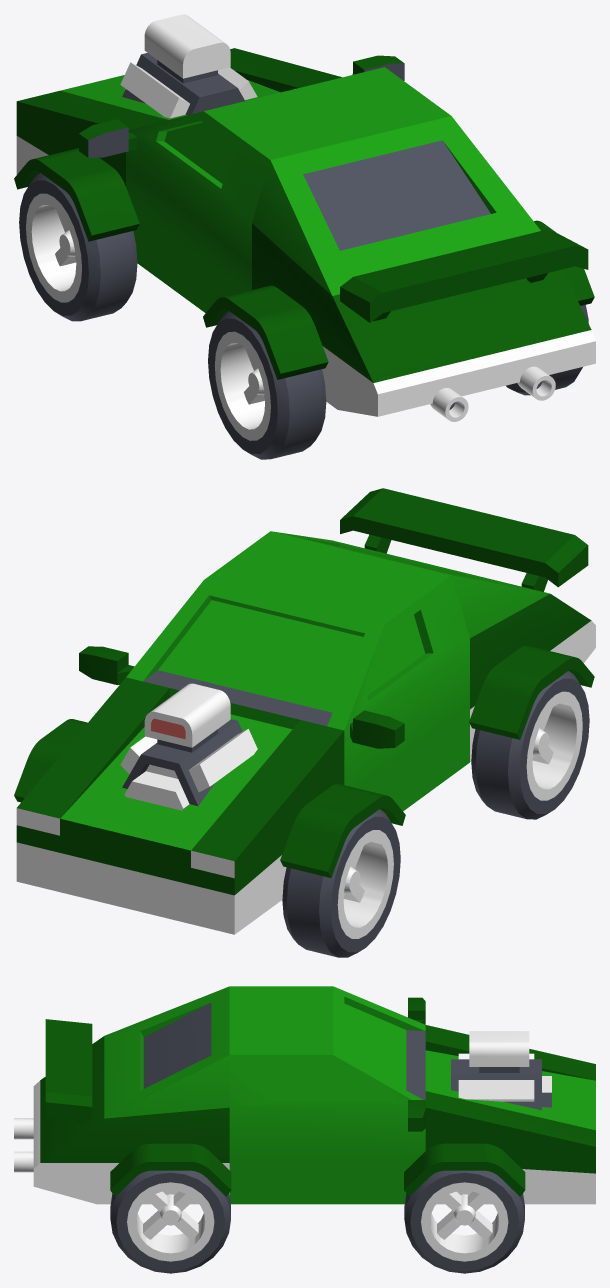
File: Traffic Race Green.fbx
The picture shows the model from 3 angles, top to bottom: view 1: azimuth 30°, elevation 25°; view 2: azimuth 150°, elevation 25°; view 3: azimuth 270°, elevation 25°; orthographic projection. The views are drawn at different scales.
Parts seen in each view (by area): view 1: trunk_smooth_126, windshield_default_121, wheel_smallSports_135, wheel_smallSports_134, detail_spoilerRound_130, hood_sleek_117, detail_engine_133, detail_fenderRounded_137, detail_fenderRounded_136, detail_mirror_131, detail_exhaust_142, detail_exhaust_143 (+3 smaller); view 2: windshield_default_121, hood_sleek_117, detail_spoilerRound_130, wheel_smallSports_134, wheel_smallSports_135, detail_engine_133, trunk_smooth_126, detail_fenderRounded_137, detail_fenderRounded_136, detail_fenderRounded_138, detail_mirror_131, detail_mirror_132; view 3: windshield_default_121, trunk_smooth_126, hood_sleek_117, wheel_smallSports_139, wheel_smallSports_140, detail_engine_133, detail_spoilerRound_130, detail_fenderRounded_138, detail_fenderRounded_141, detail_mirror_132, detail_exhaust_142, detail_exhaust_143 (+1 smaller).
Part boxes in pixels (<box>): trunk_smooth_126: <box>252,116,595,416</box>; windshield_default_121: <box>126,67,450,313</box>; wheel_smallSports_135: <box>208,311,326,459</box>; wheel_smallSports_134: <box>19,172,137,321</box>; detail_spoilerRound_130: <box>340,230,588,322</box>; hood_sleek_117: <box>16,48,341,186</box>; detail_engine_133: <box>120,14,257,118</box>; detail_fenderRounded_137: <box>203,285,328,379</box>; detail_fenderRounded_136: <box>14,148,139,241</box>; detail_mirror_131: <box>79,119,137,157</box>; detail_exhaust_142: <box>517,366,555,400</box>; detail_exhaust_143: <box>430,388,468,421</box>; windshield_default_121: <box>126,531,469,811</box>; hood_sleek_117: <box>16,677,344,934</box>; detail_spoilerRound_130: <box>340,488,588,591</box>; wheel_smallSports_134: <box>282,809,400,957</box>; wheel_smallSports_135: <box>471,671,589,819</box>; detail_engine_133: <box>120,683,257,810</box>; trunk_smooth_126: <box>273,531,595,762</box>; detail_fenderRounded_137: <box>469,645,594,739</box>; detail_fenderRounded_136: <box>280,784,405,877</box>; detail_fenderRounded_138: <box>14,719,87,802</box>; detail_mirror_131: <box>350,710,404,748</box>; detail_mirror_132: <box>79,646,134,684</box>; windshield_default_121: <box>229,986,425,1204</box>; trunk_smooth_126: <box>33,986,229,1204</box>; hood_sleek_117: <box>425,1025,595,1204</box>; wheel_smallSports_139: <box>404,1170,524,1273</box>; wheel_smallSports_140: <box>110,1170,230,1273</box>; detail_engine_133: <box>451,1031,551,1110</box>; detail_spoilerRound_130: <box>45,1019,92,1123</box>; detail_fenderRounded_138: <box>404,1143,525,1196</box>; detail_fenderRounded_141: <box>110,1143,231,1196</box>; detail_mirror_132: <box>408,1100,425,1131</box>; detail_exhaust_142: <box>14,1151,33,1172</box>; detail_exhaust_143: <box>14,1118,33,1139</box>.
Size of the model in its own units: 14.5 by 11.08 by 29.7.
